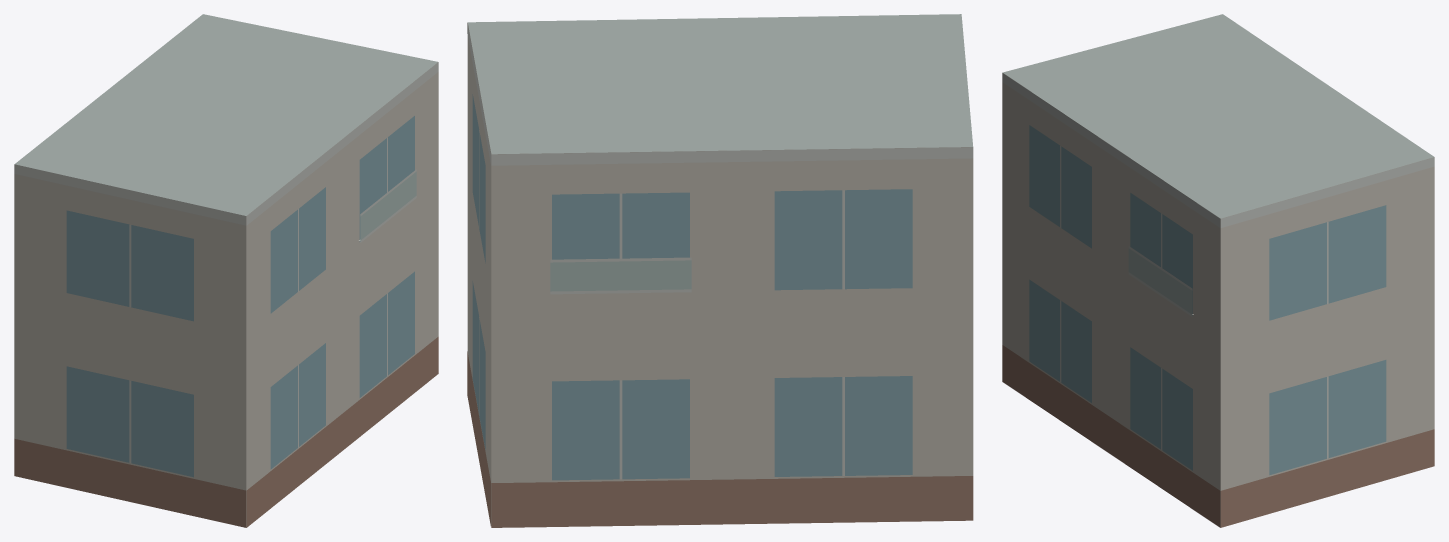
Rendered from survey-upis-32613887.glb.
3 views of the same model, side by side, from view 1: azimuth 30°, elevation 25°; view 2: azimuth 150°, elevation 25°; view 3: azimuth 270°, elevation 25° (orthographic). The views are drawn at different scales.
Visible parts, largest first — view 1: survey-upis-32613887.tmp; view 2: survey-upis-32613887.tmp; view 3: survey-upis-32613887.tmp.
Part boxes in pixels (box(x1,y1,x2,y2)): survey-upis-32613887.tmp: box(14, 14, 438, 527); survey-upis-32613887.tmp: box(467, 14, 973, 527); survey-upis-32613887.tmp: box(1002, 14, 1434, 527).
Size of the model in its own units: 11.23 by 7.9 by 10.02.
